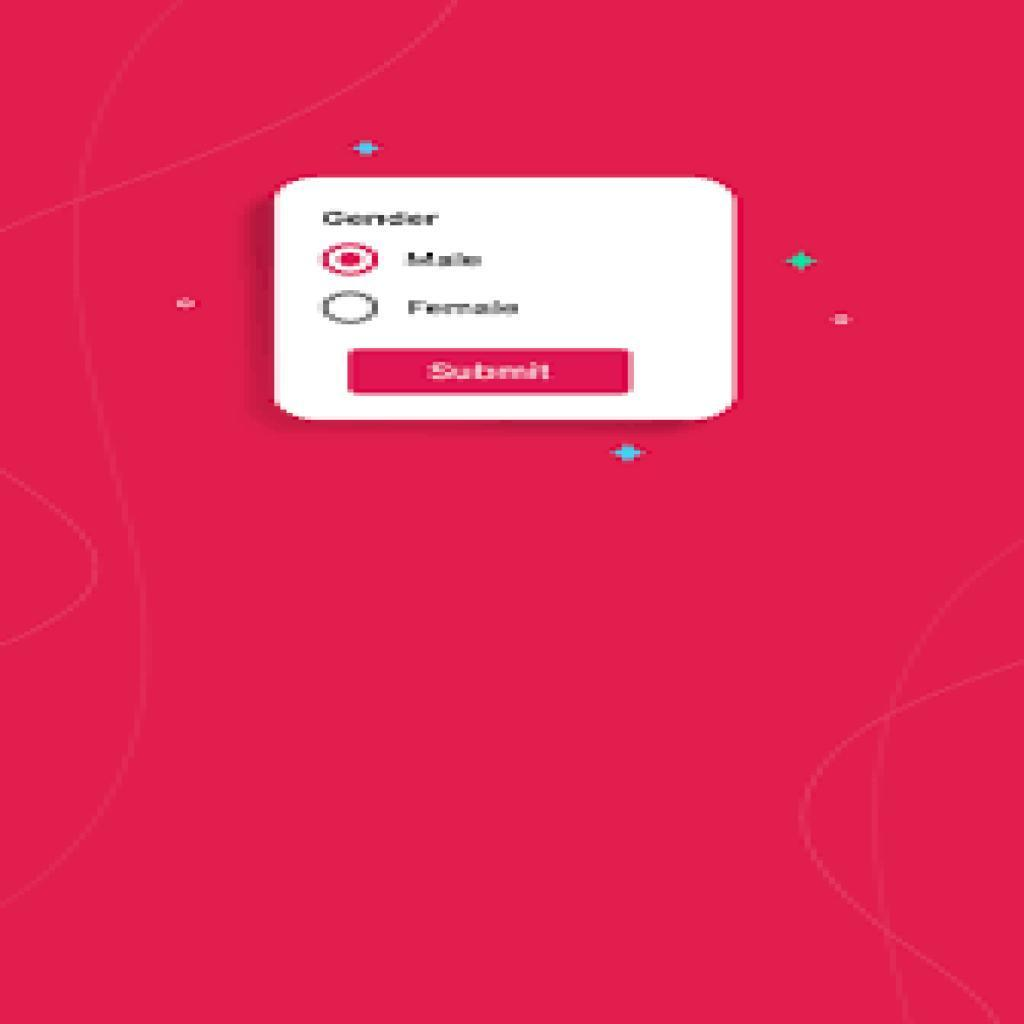button: (351, 344, 634, 397)
radio: (324, 288, 387, 334), (318, 242, 382, 278)
